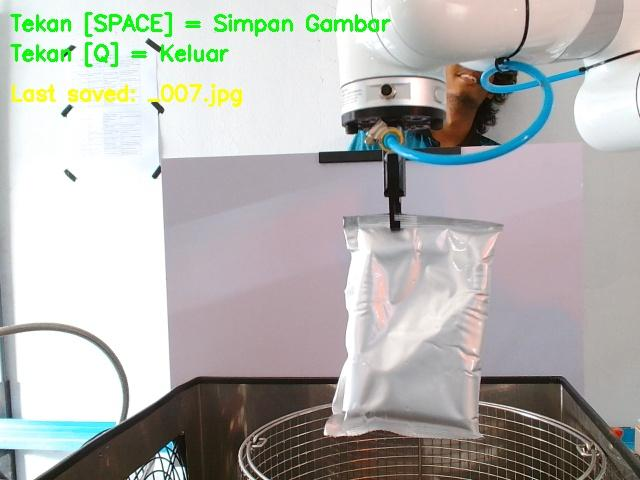retort-pouch: (326, 214, 502, 440)
